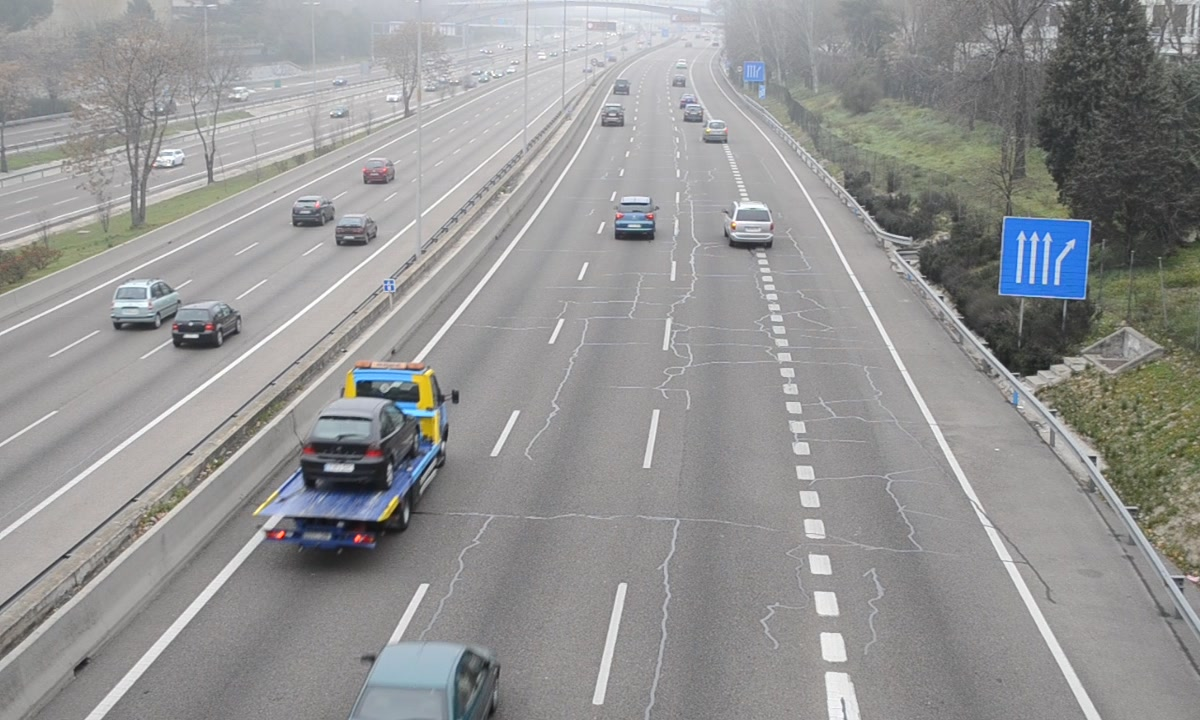car: (726, 200, 775, 248), (614, 194, 656, 237), (600, 101, 626, 127), (703, 118, 728, 142)
small-truck: (254, 361, 448, 548)
